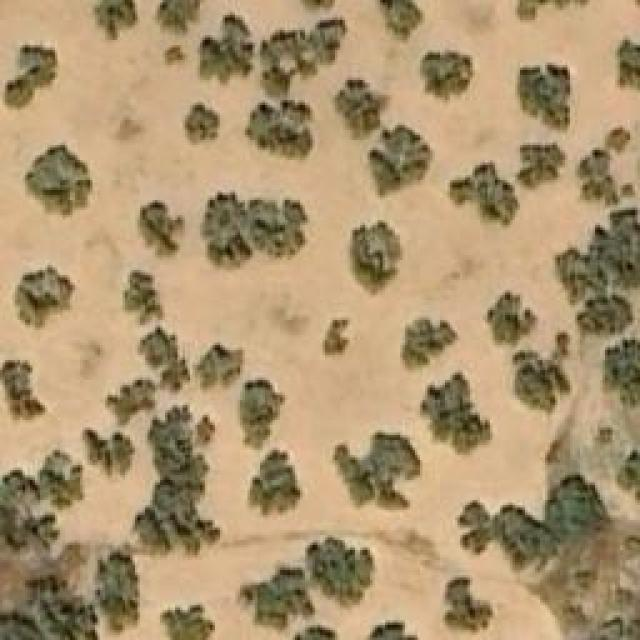Tree: (555, 207, 640, 305), (203, 190, 308, 268), (335, 430, 420, 508), (420, 370, 493, 458), (258, 23, 344, 95), (458, 503, 551, 566), (25, 143, 93, 218), (445, 160, 518, 228), (305, 538, 373, 611), (235, 565, 313, 625), (548, 470, 603, 550), (345, 220, 403, 295), (248, 98, 313, 163), (13, 265, 76, 330), (368, 128, 431, 193), (3, 42, 58, 110), (248, 450, 303, 518), (200, 13, 253, 83), (138, 328, 191, 393), (92, 563, 140, 633), (237, 378, 285, 448), (400, 318, 460, 373), (0, 360, 48, 428), (80, 427, 135, 485), (335, 75, 388, 135), (35, 453, 88, 513), (520, 65, 570, 128), (442, 577, 492, 640), (418, 48, 473, 101), (483, 290, 536, 345), (137, 200, 185, 258), (512, 365, 570, 413), (575, 295, 633, 343), (602, 340, 640, 410), (105, 378, 158, 428), (515, 142, 565, 190), (123, 270, 166, 325), (195, 342, 243, 390), (160, 602, 218, 640), (378, 0, 423, 45), (155, 0, 205, 38), (182, 102, 220, 150), (93, 0, 138, 40), (363, 615, 423, 640), (617, 447, 640, 504), (322, 318, 350, 358), (620, 40, 640, 90), (157, 40, 185, 65)
